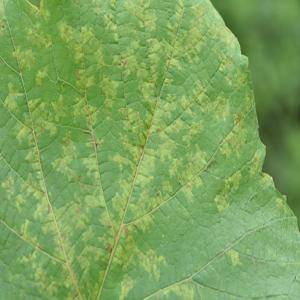Folha: (0, 0, 299, 299)
Fungo: (128, 35, 208, 204), (24, 175, 90, 267), (108, 238, 168, 298), (27, 267, 112, 300), (58, 17, 107, 68), (120, 131, 155, 193), (11, 98, 59, 140), (222, 108, 247, 161), (50, 136, 78, 181), (214, 169, 242, 212), (174, 0, 209, 34), (70, 91, 99, 131), (144, 278, 196, 300), (124, 0, 158, 30), (186, 80, 213, 115), (252, 153, 270, 196), (98, 70, 117, 110), (12, 44, 36, 73), (26, 136, 43, 174), (51, 91, 71, 123), (2, 81, 22, 113), (100, 209, 119, 241), (212, 21, 234, 46), (75, 66, 96, 92), (76, 24, 99, 46), (104, 14, 121, 43), (84, 152, 100, 182), (214, 95, 230, 123), (2, 171, 15, 199), (58, 22, 74, 43), (229, 248, 242, 267), (275, 197, 289, 214), (13, 193, 25, 210), (105, 241, 112, 254), (123, 226, 129, 238), (121, 58, 126, 66)
